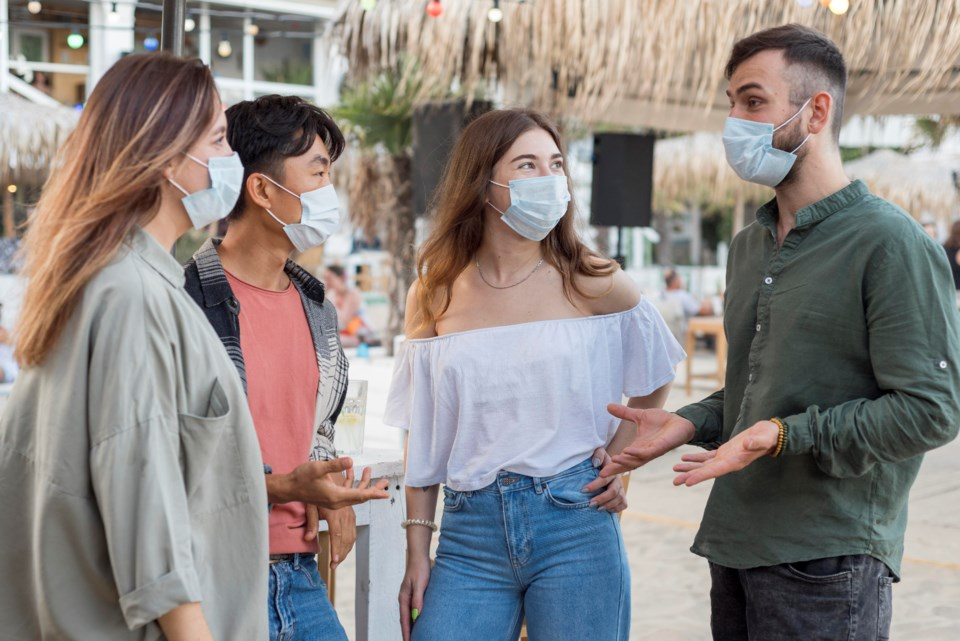with_mask: (723, 74, 787, 185), (507, 144, 572, 237), (287, 156, 340, 255), (195, 124, 246, 219)
